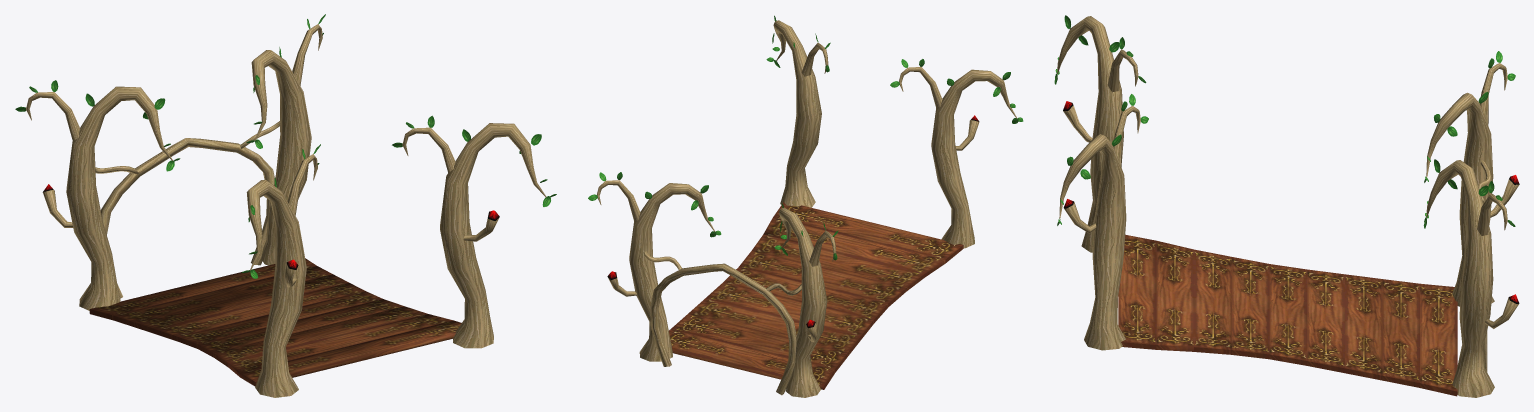
Rendered from EKH_ENTRANCE_PS_EN_BRIDGE_4746__GX.fbx.
3 views of the same model, side by side, from view 1: azimuth 30°, elevation 25°; view 2: azimuth 150°, elevation 25°; view 3: azimuth 270°, elevation 25° (orthographic). The views are drawn at different scales.
Visible parts, largest first — view 1: EKH_ENTRANCE_PS_EN_BRIDGE_4746__GX; view 2: EKH_ENTRANCE_PS_EN_BRIDGE_4746__GX; view 3: EKH_ENTRANCE_PS_EN_BRIDGE_4746__GX.
Boxes of the visible parts, x1,y1,x2,y2 form: EKH_ENTRANCE_PS_EN_BRIDGE_4746__GX: [15, 14, 556, 397]; EKH_ENTRANCE_PS_EN_BRIDGE_4746__GX: [588, 15, 1023, 397]; EKH_ENTRANCE_PS_EN_BRIDGE_4746__GX: [1054, 15, 1519, 397].
Size of the model in its own units: 64195 by 54549 by 81652.
5 materials, 5 textured.
